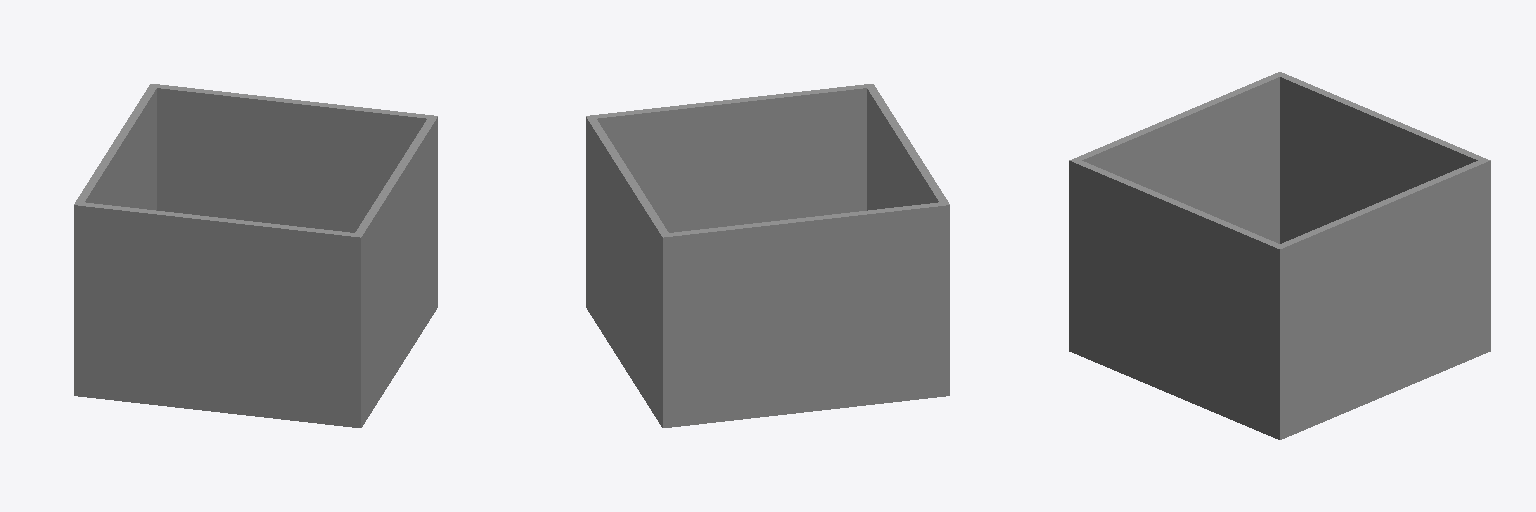
File: gate14.obj
3 renders of one model, left to right at view 1: azimuth 30°, elevation 25°; view 2: azimuth 150°, elevation 25°; view 3: azimuth 270°, elevation 25°, orthographic.
Parts seen in each view (by area): view 1: Cylinder; view 2: Cylinder; view 3: Cylinder.
Boxes of the visible parts, box(x1,y1,x2,y2) form: Cylinder: box(74, 84, 437, 427); Cylinder: box(586, 84, 949, 427); Cylinder: box(1069, 72, 1490, 439).
Bounding box in the file's own units: 2 × 1 × 2.